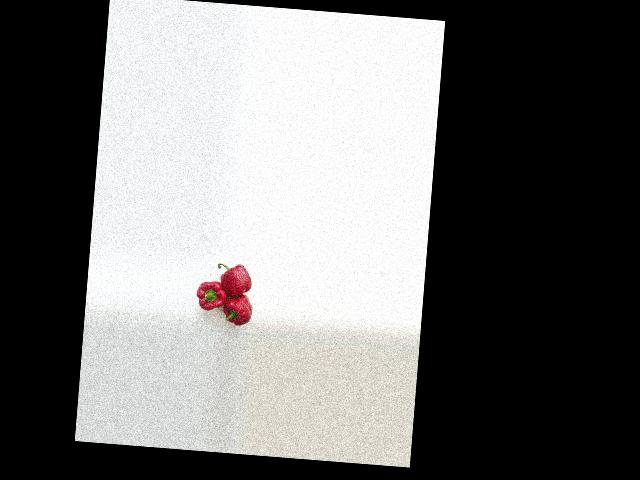bell_pepper: (214, 255, 255, 295)
